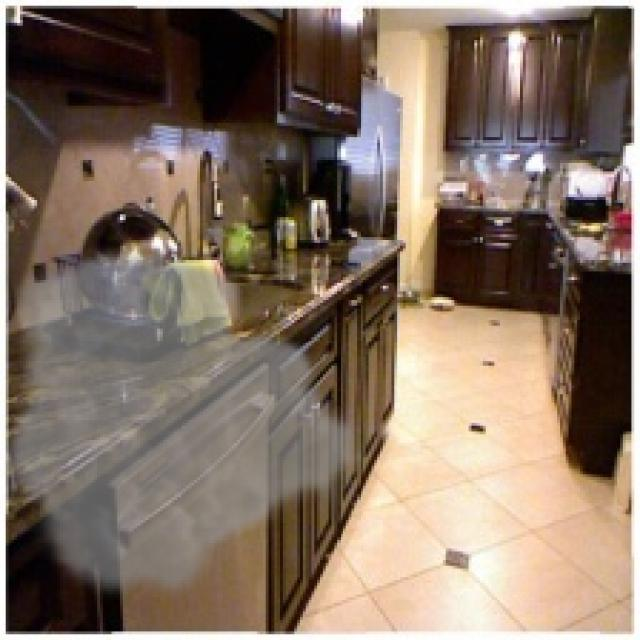smoke: (3, 243, 368, 606)
